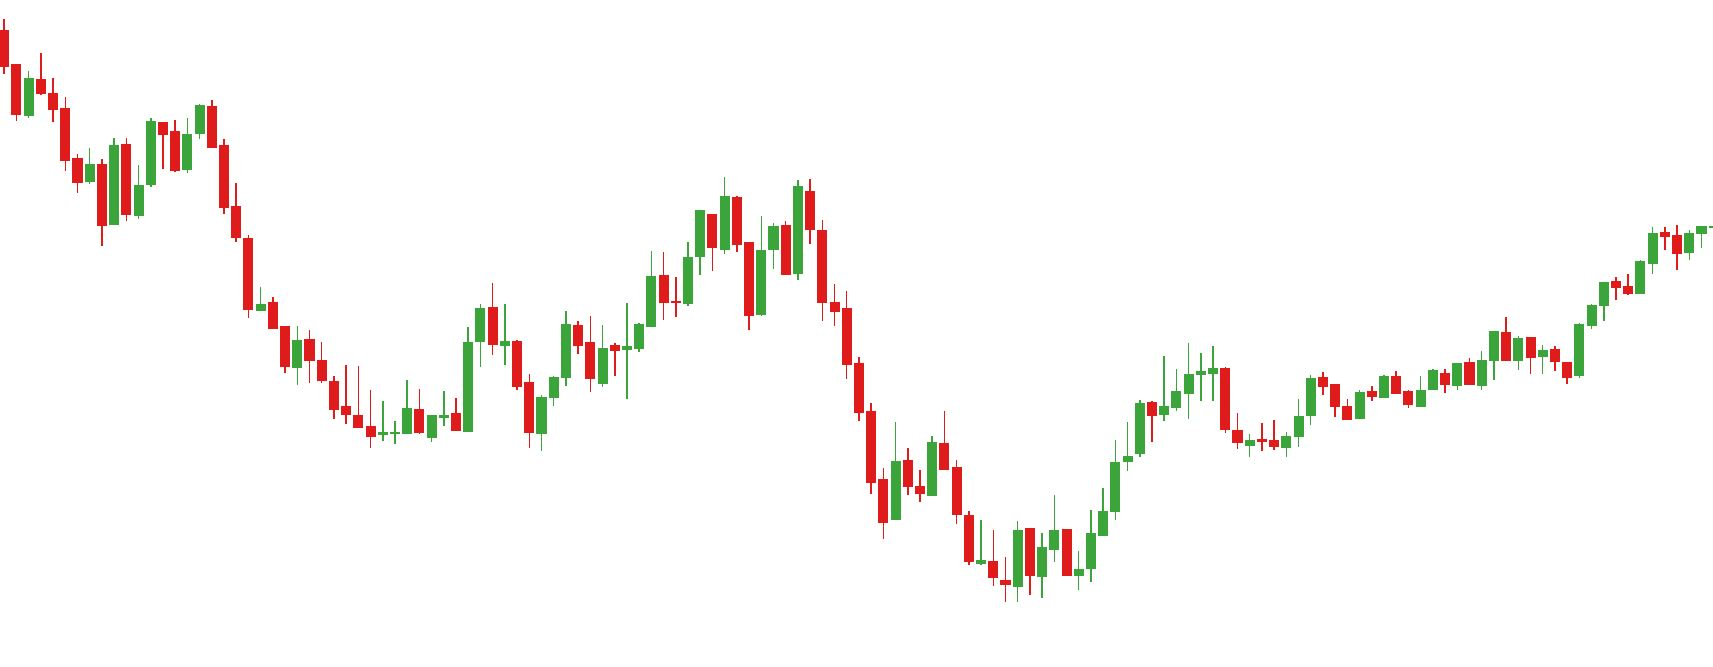buy: (453, 338, 550, 449)
